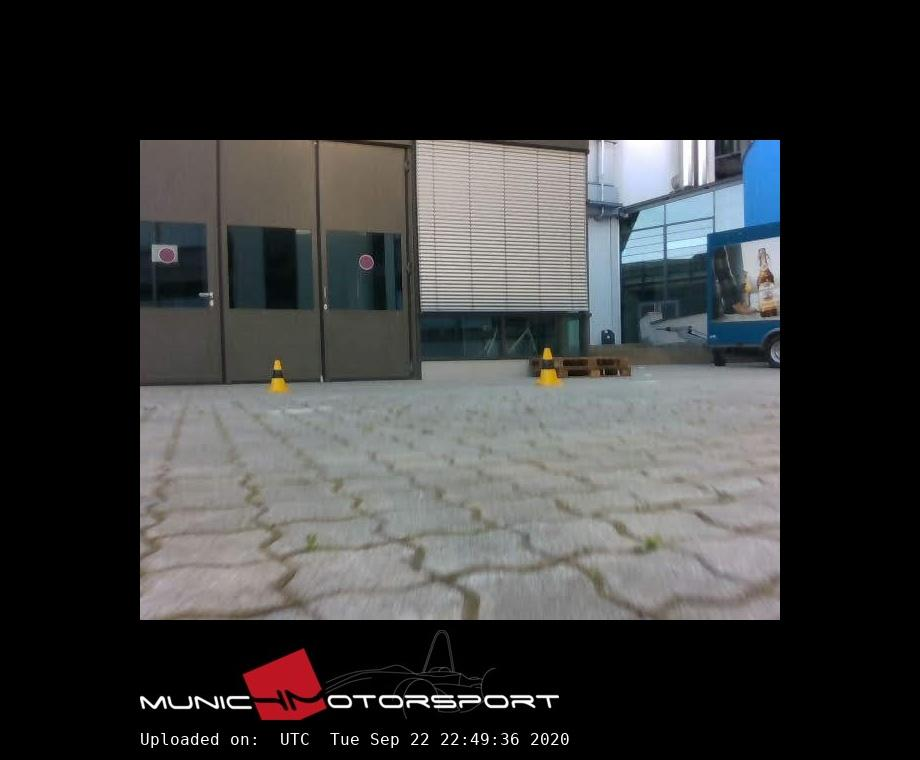yellow_cone: (537, 349, 562, 385), (269, 360, 289, 392)
